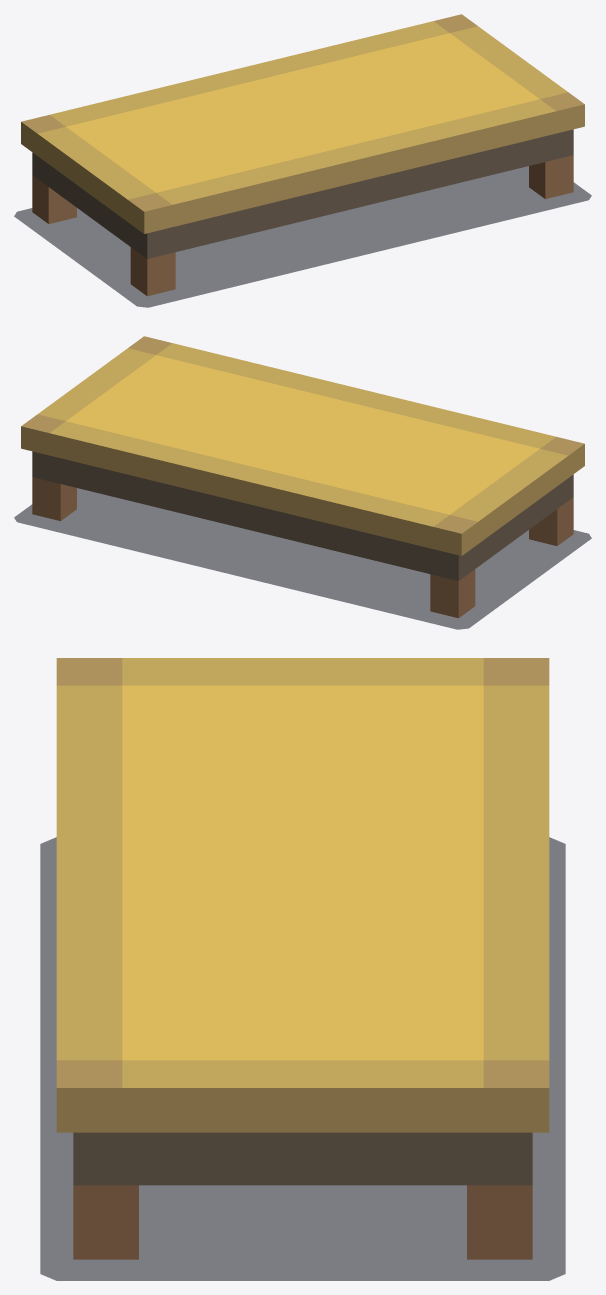
The model's file is modelo.obj.
3 views of the same model, one above another, from view 1: azimuth 30°, elevation 25°; view 2: azimuth 150°, elevation 25°; view 3: azimuth 270°, elevation 25° (orthographic). The views are drawn at different scales.
Visible parts, largest first — view 1: polygon1, polygon0; view 2: polygon1, polygon0; view 3: polygon1, polygon0.
Part boxes in pixels (x1=…): polygon1: x1=21, y1=14, x2=584, y2=296; polygon0: x1=14, y1=166, x2=591, y2=307; polygon1: x1=21, y1=336, x2=584, y2=618; polygon0: x1=14, y1=488, x2=591, y2=629; polygon1: x1=56, y1=658, x2=549, y2=1259; polygon0: x1=40, y1=837, x2=565, y2=1280.
Size of the model in its own units: 64 by 12.5 by 32.
2 materials, 2 textured.
